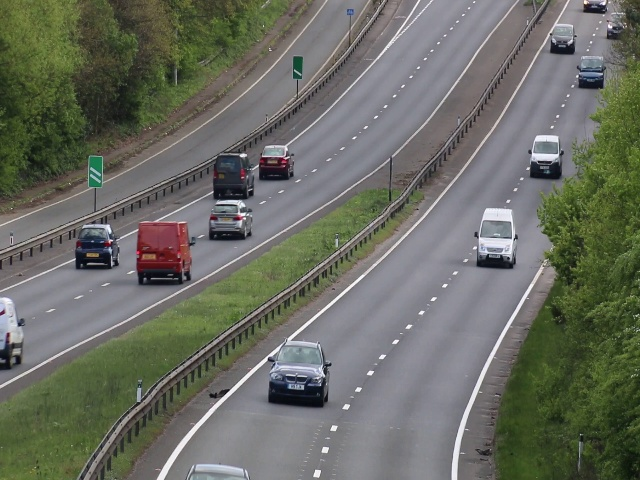car: (268, 340, 329, 406), (137, 217, 196, 285), (476, 207, 516, 266), (73, 220, 118, 270), (207, 197, 255, 241), (210, 152, 254, 198), (527, 131, 564, 179), (1, 297, 24, 372), (259, 143, 296, 181), (575, 54, 606, 88), (548, 22, 577, 55)
